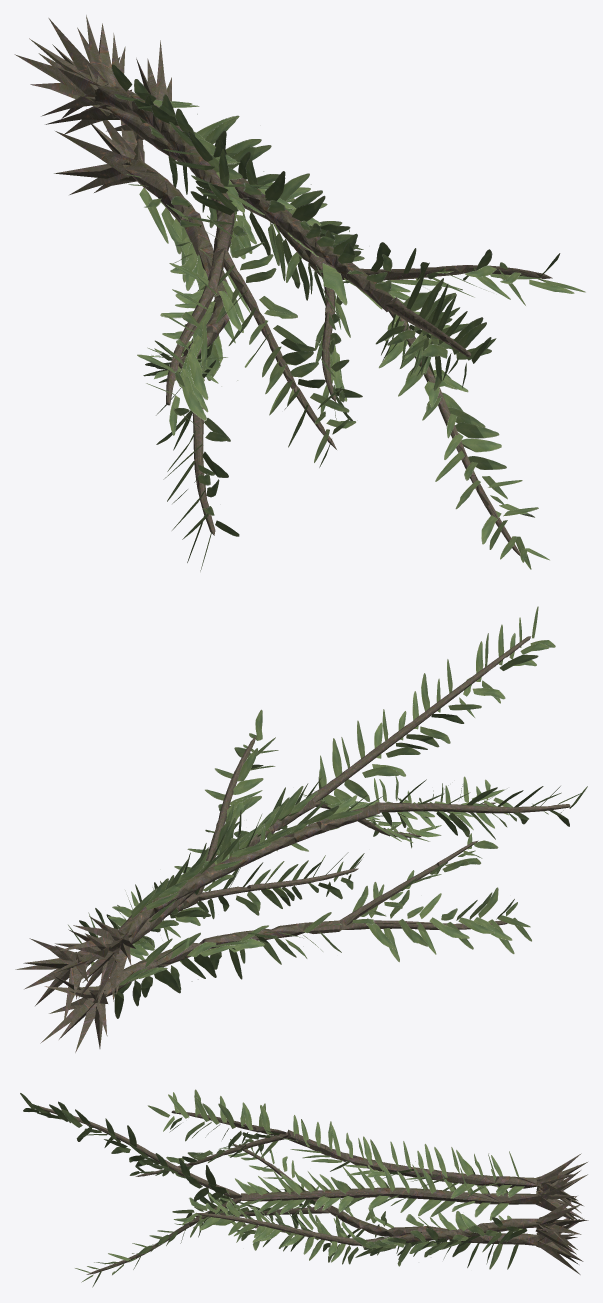
File: plantSmall.obj
3 views of the same model, one above another, from view 1: azimuth 30°, elevation 25°; view 2: azimuth 150°, elevation 25°; view 3: azimuth 270°, elevation 25° (orthographic). The views are drawn at different scales.
Parts seen in each view (by area): view 1: PR10y; view 2: PR10y; view 3: PR10y.
Part boxes in pixels (x1=…): PR10y: x1=14, y1=15, x2=585, y2=571; PR10y: x1=15, y1=606, x2=587, y2=1052; PR10y: x1=20, y1=1089, x2=588, y2=1287.
Size of the model in its own units: 9.95 by 6.87 by 19.75.
2 materials, 2 textured.
